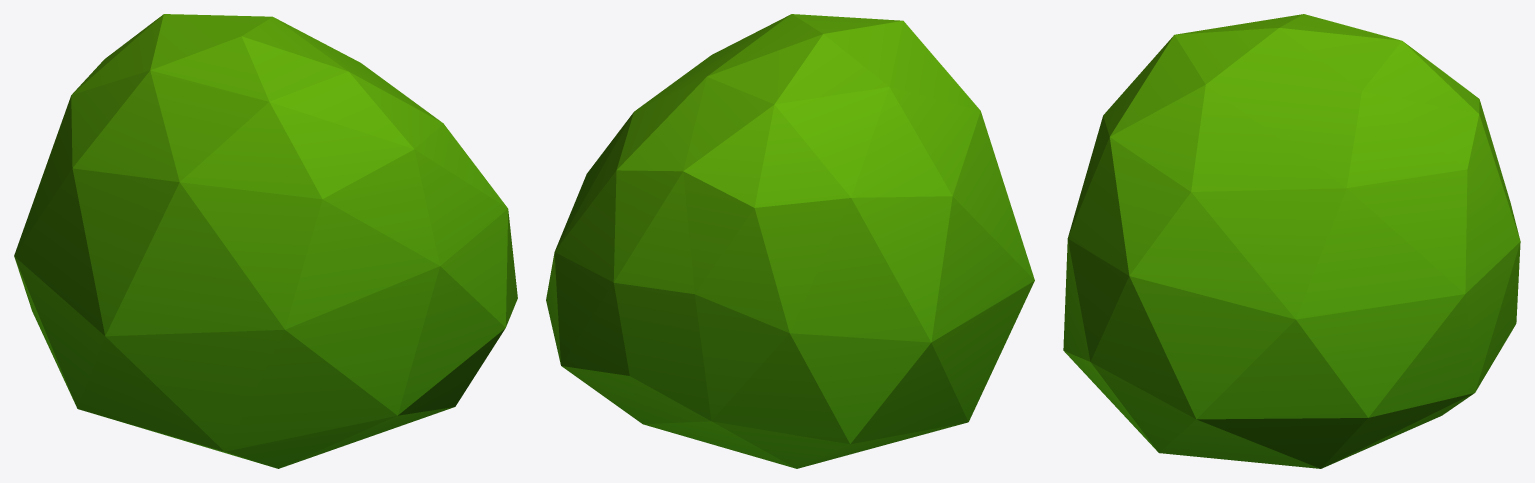
The model's file is bush_2.fbx.
The picture shows the model from 3 angles, left to right: view 1: azimuth 30°, elevation 25°; view 2: azimuth 150°, elevation 25°; view 3: azimuth 270°, elevation 25°; orthographic projection. The views are drawn at different scales.
Parts seen in each view (by area): view 1: bush_2; view 2: bush_2; view 3: bush_2.
Boxes of the visible parts, <box> form: bush_2: <box>14,14,517,468</box>; bush_2: <box>546,14,1034,468</box>; bush_2: <box>1063,14,1520,468</box>.
Size of the model in its own units: 0.9903 by 0.9168 by 0.9882.
